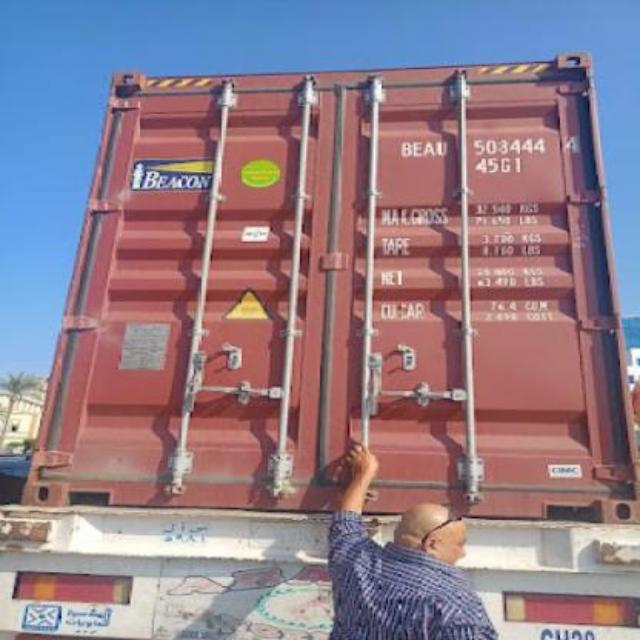0: (484, 134, 496, 156)
4: (558, 134, 584, 156), (534, 132, 546, 160), (522, 132, 534, 158), (508, 134, 522, 156)
5: (471, 134, 484, 158)
8: (498, 134, 508, 158)
A: (422, 133, 434, 165)
B: (400, 138, 412, 160)
E: (412, 136, 422, 162)
U: (434, 134, 450, 162)
